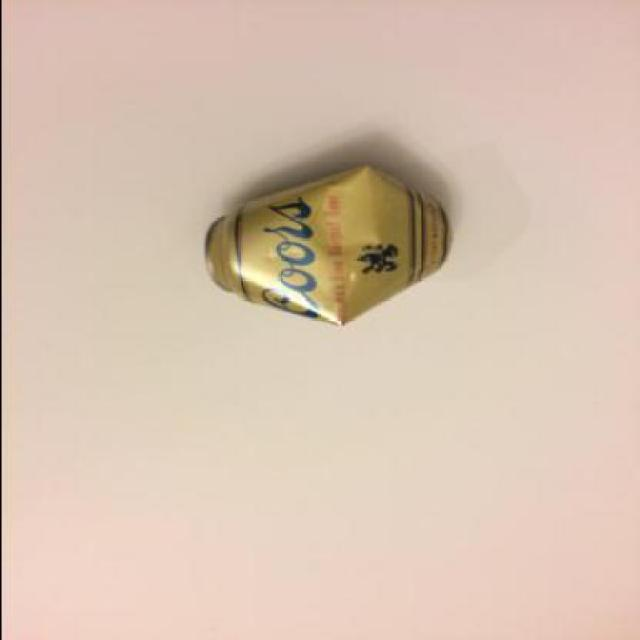METAL: (202, 166, 448, 328)
